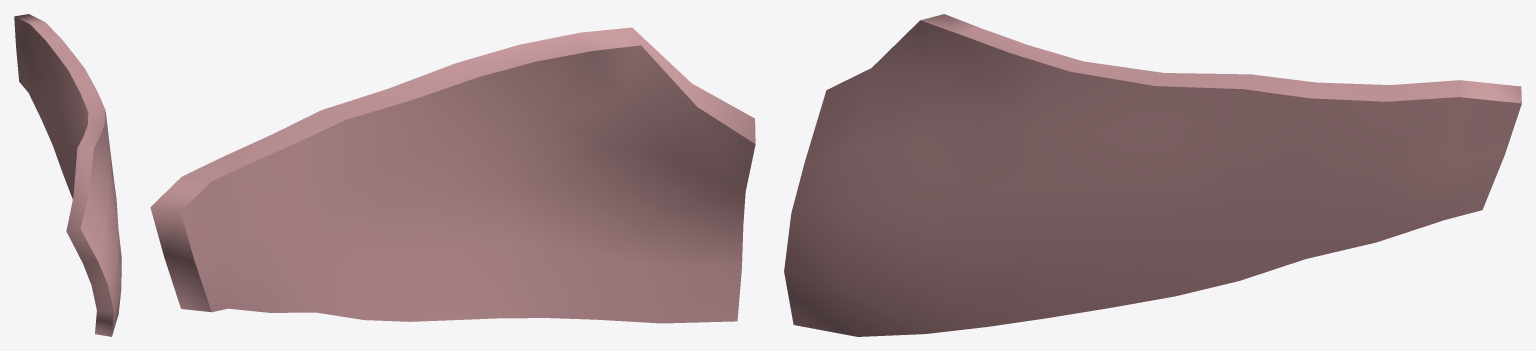
The picture shows the model from 3 angles, left to right: view 1: azimuth 30°, elevation 25°; view 2: azimuth 150°, elevation 25°; view 3: azimuth 270°, elevation 25°; orthographic projection. The views are drawn at different scales.
Visible parts, largest first — view 1: ZA_2e82f3a5451f4eb6; view 2: ZA_2e82f3a5451f4eb6; view 3: ZA_2e82f3a5451f4eb6.
Part boxes in pixels (left/top/right/bottom): ZA_2e82f3a5451f4eb6: left=14, top=14, right=121, bottom=336; ZA_2e82f3a5451f4eb6: left=150, top=27, right=755, bottom=323; ZA_2e82f3a5451f4eb6: left=784, top=14, right=1521, bottom=336.
Bounding box in the file's own units: 0.0266 × 0.0319 × 0.0649.
